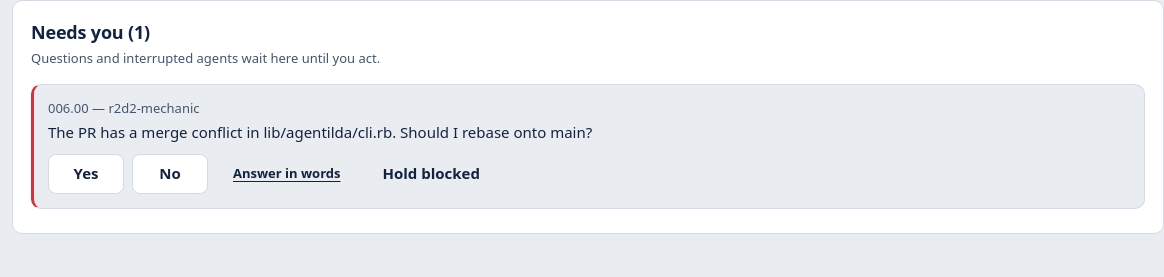
Test: NeedsYou › reads a rejected promise as a refusal
This screenshot has width=1164, height=277.
What coordinates should you click on to do the following:
click the button "Yes"
I would click on:
 (86, 174)
Its box is [48, 154, 124, 194].
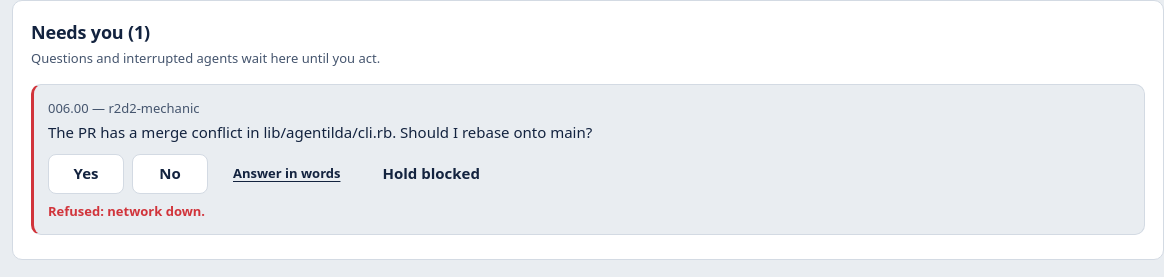
Result: the text "Refused: network down." below "006.00" is shown at [48, 202, 205, 220]
